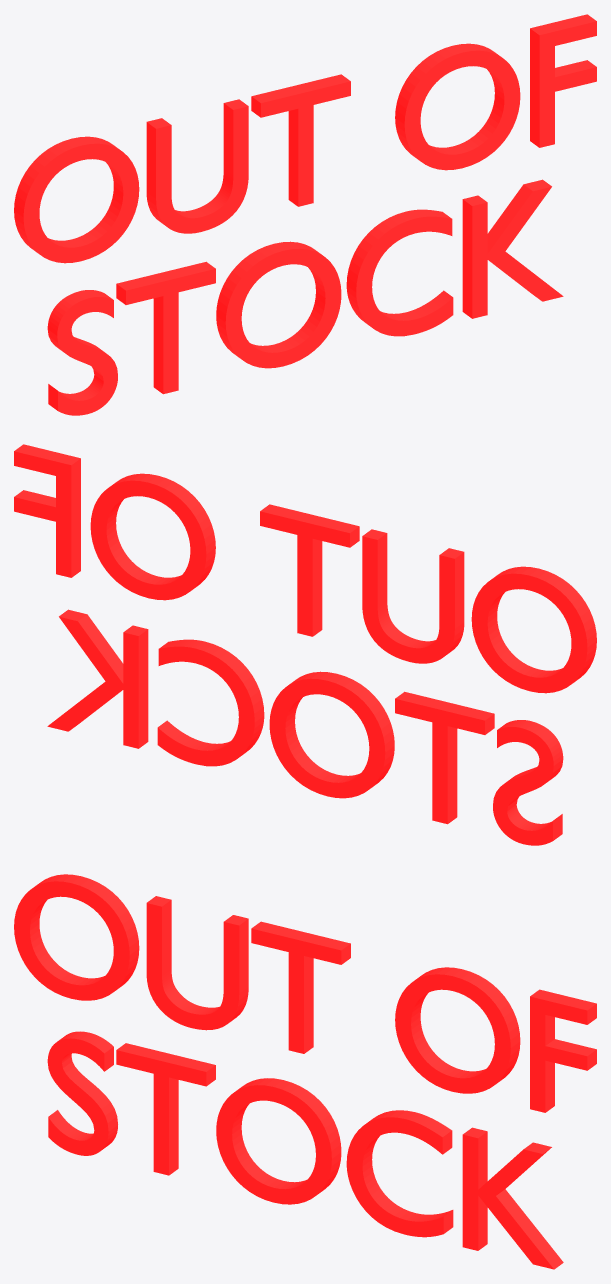
File: OUT_OF_STOCK.glb
3 renders of one model, top to bottom at view 1: azimuth 30°, elevation 25°; view 2: azimuth 150°, elevation 25°; view 3: azimuth 330°, elevation 25°, orthographic.
Parts seen in each view (by area): view 1: Text; view 2: Text; view 3: Text.
Part boxes in pixels (left/top/right/bottom): Text: left=14, top=14, right=596, bottom=415; Text: left=14, top=444, right=596, bottom=845; Text: left=14, top=874, right=596, bottom=1269.
Size of the model in its own units: 0.3632 by 0.1635 by 0.0105.
